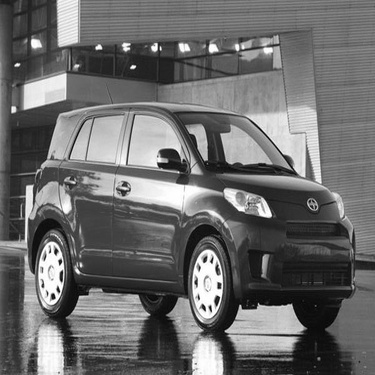car: (10, 99, 365, 337)
